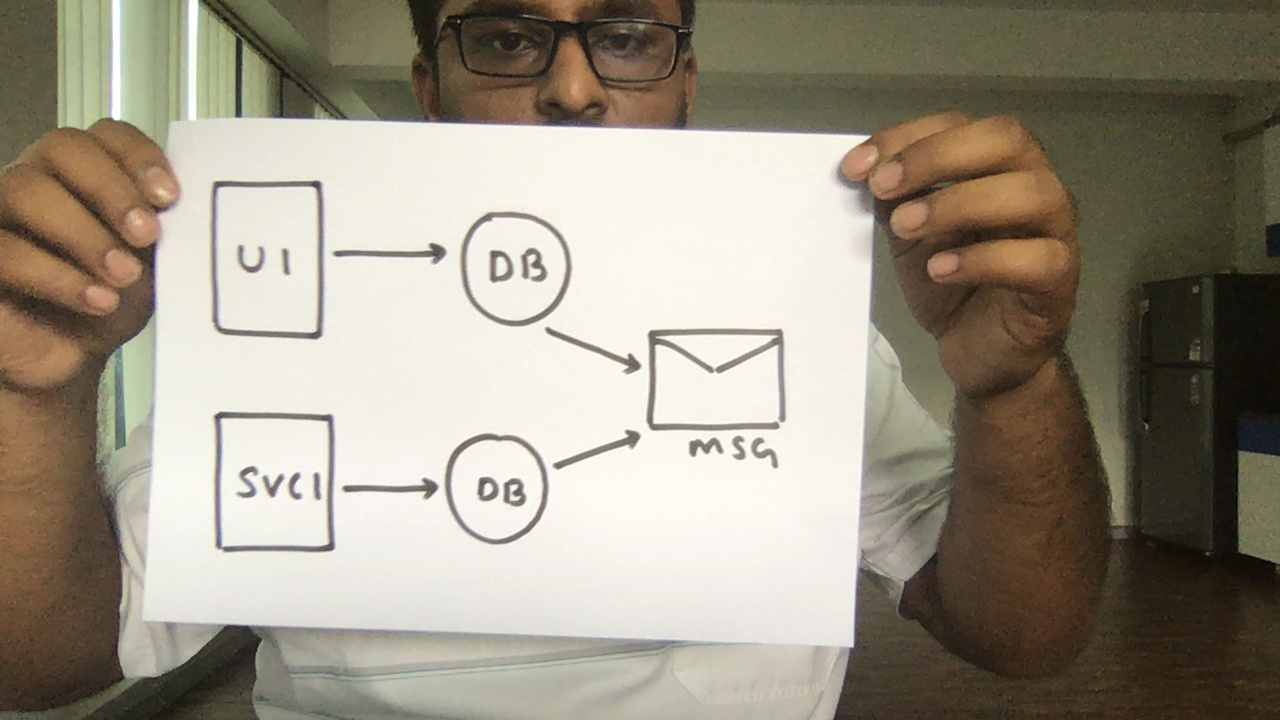arrow: (327, 227, 452, 283), (542, 319, 647, 384), (550, 420, 649, 482), (337, 461, 444, 517)
db: (453, 204, 580, 328), (439, 428, 559, 549)
ec2: (208, 406, 343, 557)
sns: (641, 323, 802, 465)
ui: (203, 174, 332, 350)
